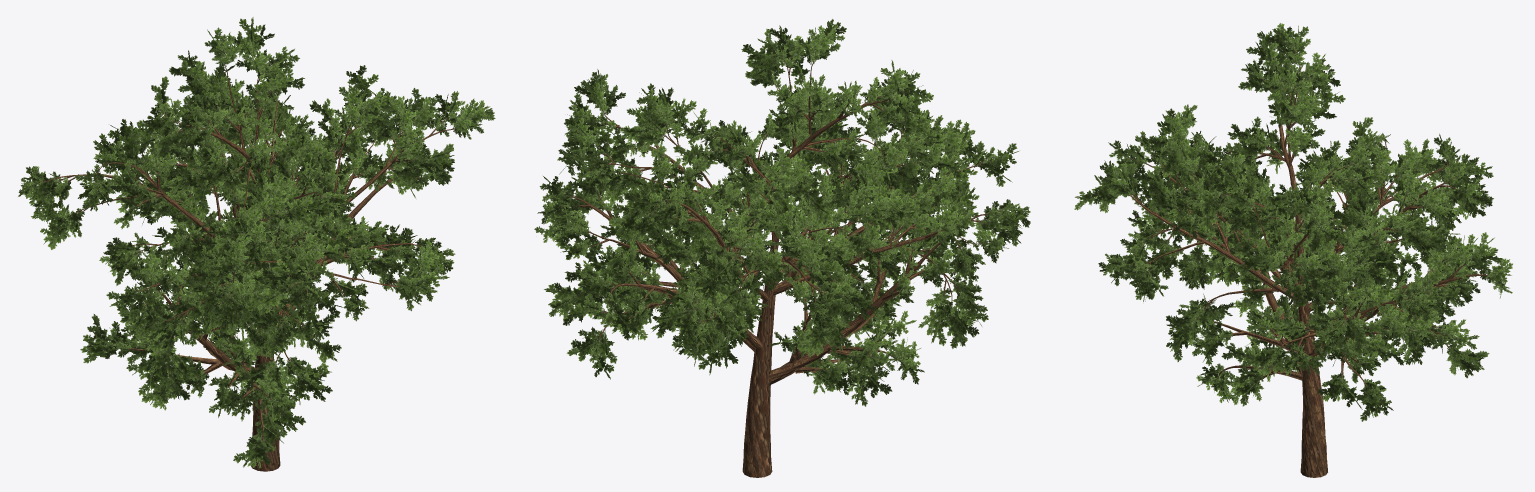
Rendered from tree (8)-compressed.glb.
3 renders of one model, left to right at view 1: azimuth 30°, elevation 25°; view 2: azimuth 150°, elevation 25°; view 3: azimuth 270°, elevation 25°, orthographic. The views are drawn at different scales.
Visible parts, largest first — view 1: Tree; view 2: Tree; view 3: Tree.
Part boxes in pixels (box(x1,y1,x2,y2)): Tree: box(18, 17, 495, 471); Tree: box(534, 19, 1030, 477); Tree: box(1074, 23, 1512, 477).
Bounding box in the file's own units: 97.78 × 102 × 98.7.
2 materials, 2 textured.
